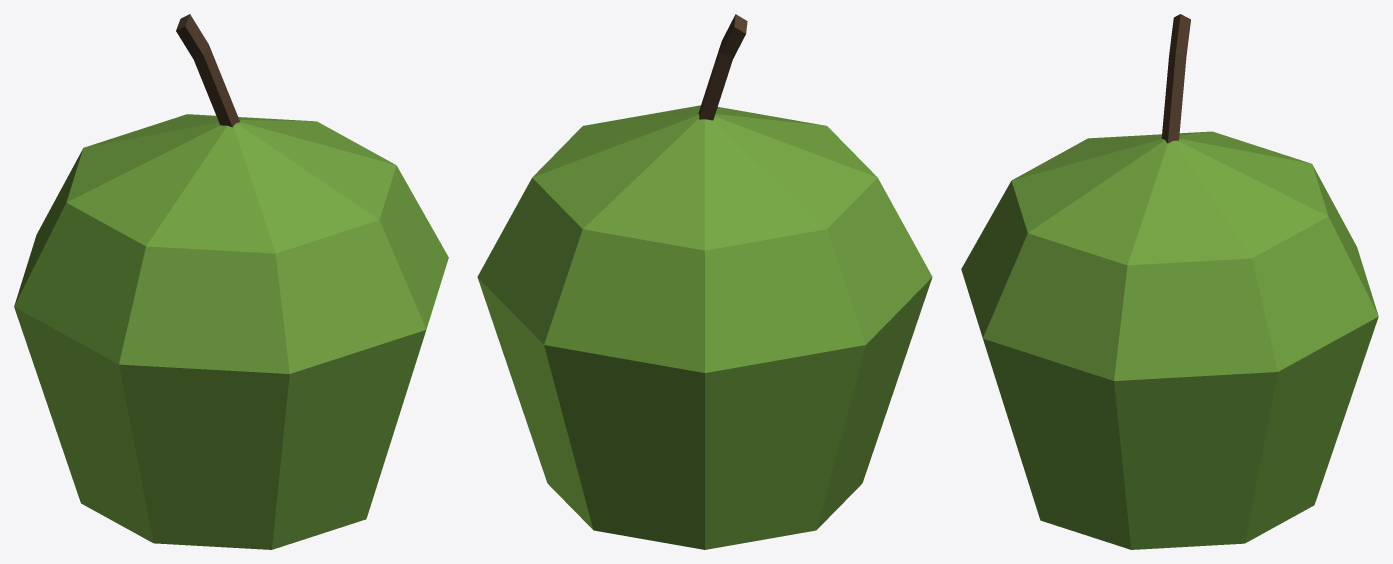
File: SM_apple_green.fbx
3 views of the same model, side by side, from view 1: azimuth 30°, elevation 25°; view 2: azimuth 150°, elevation 25°; view 3: azimuth 270°, elevation 25° (orthographic). The views are drawn at different scales.
Parts seen in each view (by area): view 1: Sphere004; view 2: Sphere004; view 3: Sphere004.
Part boxes in pixels (<box>): Sphere004: <box>14,14,448,549</box>; Sphere004: <box>477,14,932,549</box>; Sphere004: <box>961,14,1378,549</box>.
Bounding box in the file's own units: 5.77 × 7.84 × 5.77.
